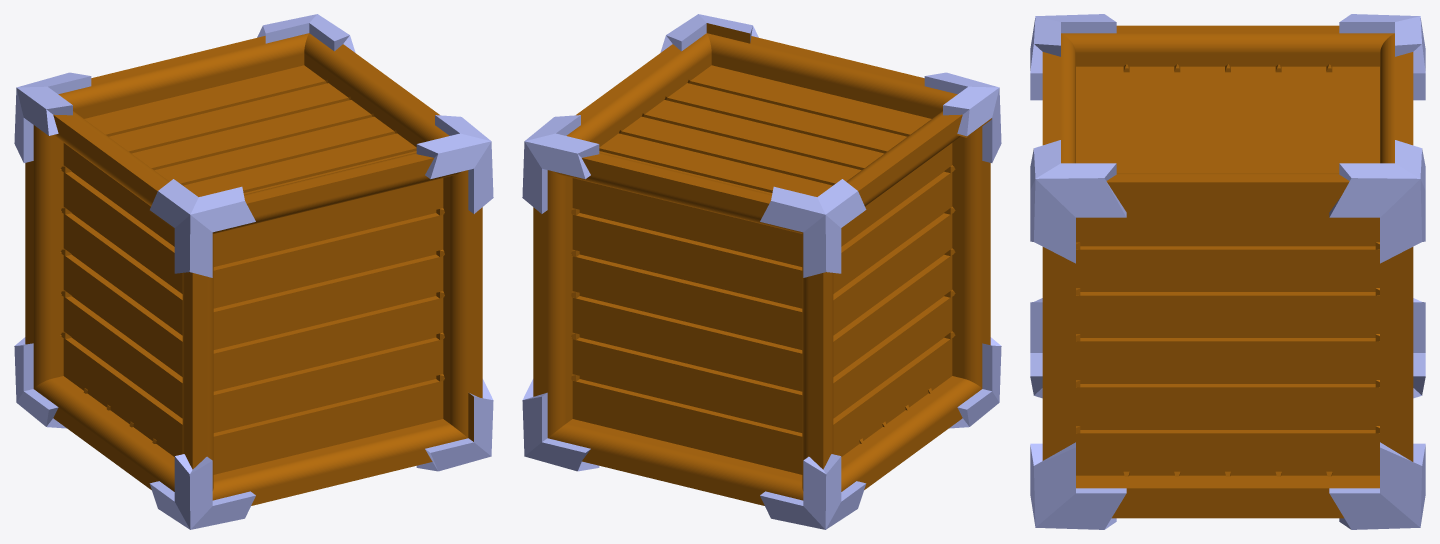
Rendered from Caja MarcoCanton.fbx.
3 renders of one model, left to right at view 1: azimuth 30°, elevation 25°; view 2: azimuth 150°, elevation 25°; view 3: azimuth 270°, elevation 25°, orthographic. The views are drawn at different scales.
Parts seen in each view (by area): view 1: Caja; view 2: Caja; view 3: Caja.
Boxes of the visible parts, left/top/right/bottom form: Caja: left=14, top=14, right=493, bottom=529; Caja: left=522, top=14, right=1001, bottom=529; Caja: left=1030, top=14, right=1425, bottom=529.
Size of the model in its own units: 213 by 213 by 213.
1 material, 1 textured.
